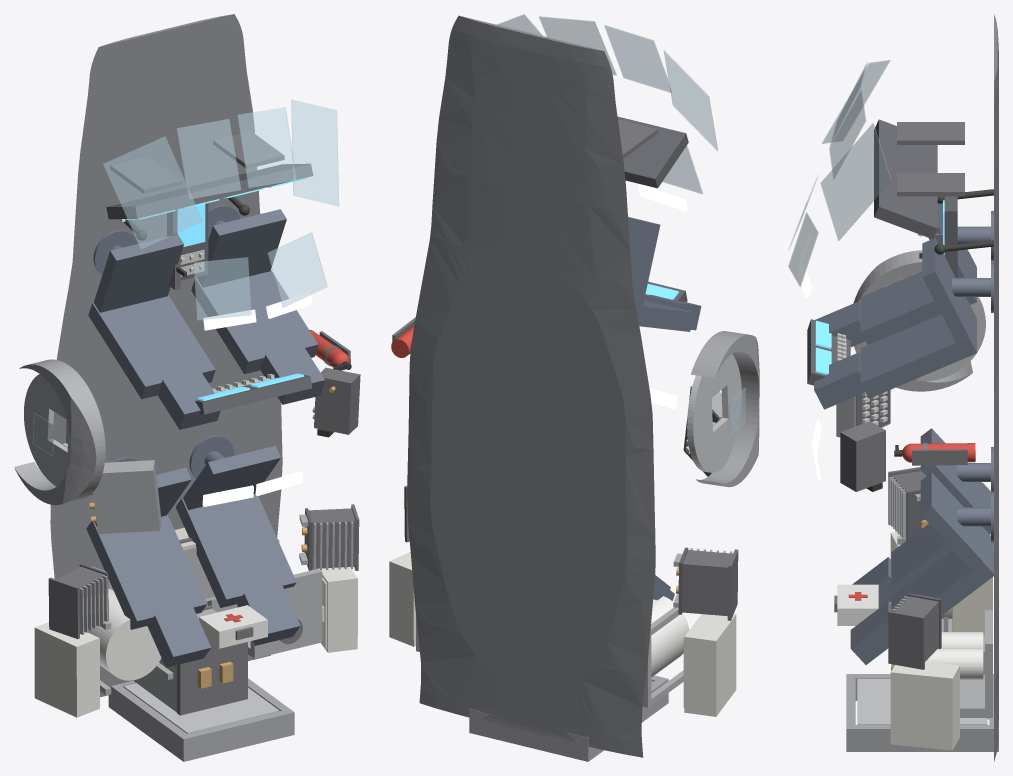
File: cockpit02_spaceplane_flight_deck_cutaway.glb
The picture shows the model from 3 angles, left to right: view 1: azimuth 30°, elevation 25°; view 2: azimuth 150°, elevation 25°; view 3: azimuth 270°, elevation 25°; orthographic projection. The views are drawn at different scales.
Parts seen in each view (by area): view 1: flight_deck_floor_inner, window_glass_inner, seat_1, seat_4, seat_2, seat_3, stowage_lockers, hatch_tunnel_1, hatch_tunnel_2, eq06_1_enclosure, main_panel, eq00_1_lid (+20 smaller); view 2: flight_deck_floor_inner, window_glass_inner, stowage_lockers, hatch_tunnel_1, hatch_door_1, seat_1, hatch_tunnel_2, eq02_2_chassis, main_panel, eq11_1_tank, eq11_1_frame, light_panels (+2 smaller); view 3: seat_2, seat_4, window_glass_inner, seat_1, stowage_lockers, seat_3, main_panel, flight_deck_floor_inner, hatch_tunnel_2, eq15_1_body, hatch_tunnel_1, eq02_1_bracket (+22 smaller).
Part boxes in pixels (x1,y1,x2,y2): flight_deck_floor_inner: (50, 14, 282, 697); window_glass_inner: (32, 99, 339, 456); seat_1: (88, 230, 220, 429); seat_4: (176, 435, 300, 645); seat_2: (191, 205, 324, 404); seat_3: (86, 457, 211, 667); stowage_lockers: (34, 567, 357, 717); hatch_tunnel_1: (14, 359, 105, 505); hatch_tunnel_2: (108, 678, 294, 761); eq06_1_enclosure: (93, 460, 161, 533); main_panel: (106, 163, 313, 219); eq00_1_lid: (177, 641, 247, 715); flight_deck_floor_inner: (407, 15, 655, 757); window_glass_inner: (497, 14, 746, 435); stowage_lockers: (389, 552, 736, 716); hatch_tunnel_1: (691, 331, 759, 487); hatch_door_1: (687, 354, 741, 472); seat_1: (628, 217, 701, 331); hatch_tunnel_2: (469, 675, 668, 761); eq02_2_chassis: (682, 550, 732, 615); main_panel: (617, 116, 688, 188); eq11_1_tank: (651, 596, 689, 677); eq11_1_frame: (642, 607, 683, 707); light_panels: (625, 181, 687, 409); seat_2: (814, 238, 993, 409); seat_4: (850, 472, 993, 664); window_glass_inner: (788, 60, 891, 286); seat_1: (815, 203, 993, 346); stowage_lockers: (890, 532, 959, 750); seat_3: (852, 428, 993, 608); main_panel: (874, 119, 937, 239); flight_deck_floor_inner: (994, 14, 998, 761); hatch_tunnel_2: (846, 674, 998, 751); eq15_1_body: (840, 421, 885, 491); hatch_tunnel_1: (853, 250, 972, 391); eq02_1_bracket: (888, 611, 924, 669).
Size of the model in its own units: 2.35 by 4.7 by 1.33.
